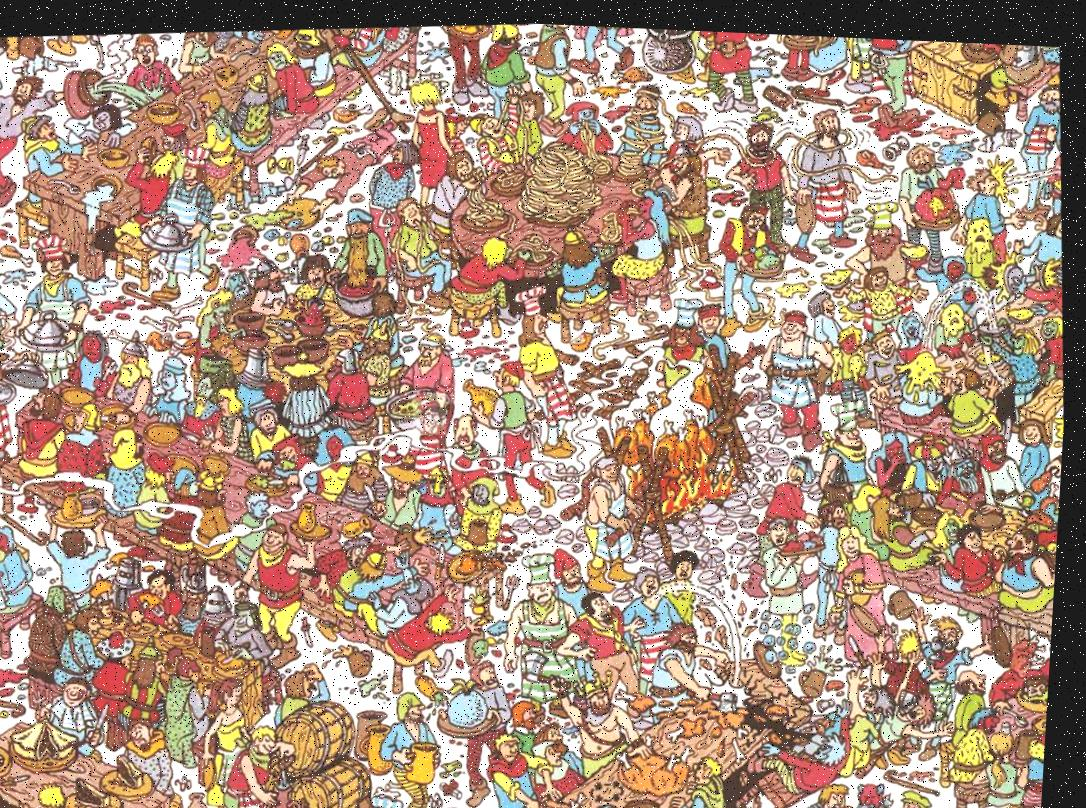waldo: (415, 387, 453, 432)
